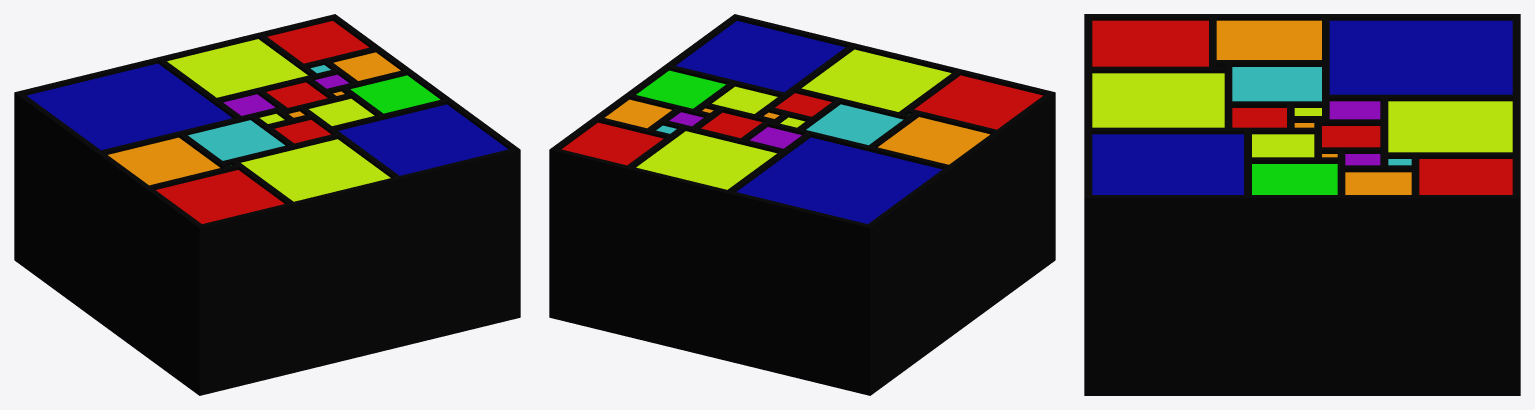
Rendered from squares.obj.
3 views of the same model, side by side, from view 1: azimuth 30°, elevation 25°; view 2: azimuth 150°, elevation 25°; view 3: azimuth 270°, elevation 25° (orthographic). The views are drawn at different scales.
Bounding box in the file's own units: 11.2 × 5.6 × 11.2.
1 material, 1 textured.
